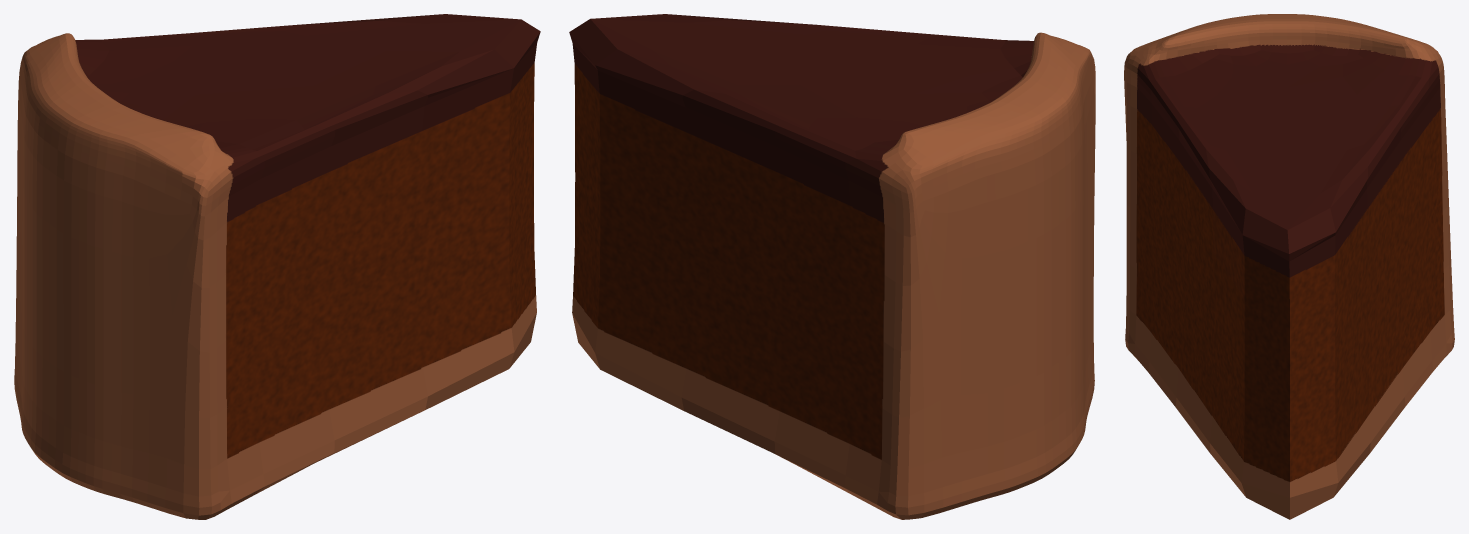
File: cake.fbx
3 views of the same model, side by side, from view 1: azimuth 30°, elevation 25°; view 2: azimuth 150°, elevation 25°; view 3: azimuth 270°, elevation 25° (orthographic). The views are drawn at different scales.
Visible parts, largest first — view 1: Cube; view 2: Cube; view 3: Cube.
Part boxes in pixels (x1,y1,x2,y2): Cube: (14, 14, 540, 519); Cube: (569, 14, 1095, 519); Cube: (1124, 14, 1454, 519).
Bounding box in the file's own units: 27.4 × 18.23 × 19.75.
